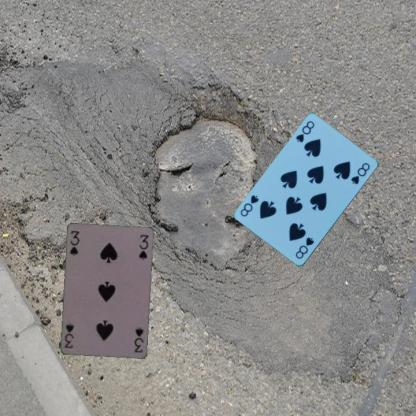3s: (67, 228, 81, 257), (132, 325, 145, 354)
8s: (293, 118, 315, 144), (293, 235, 315, 260)
